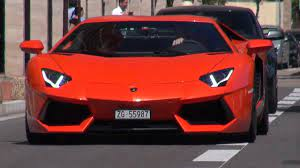Lamborghini: (18, 11, 271, 138)
